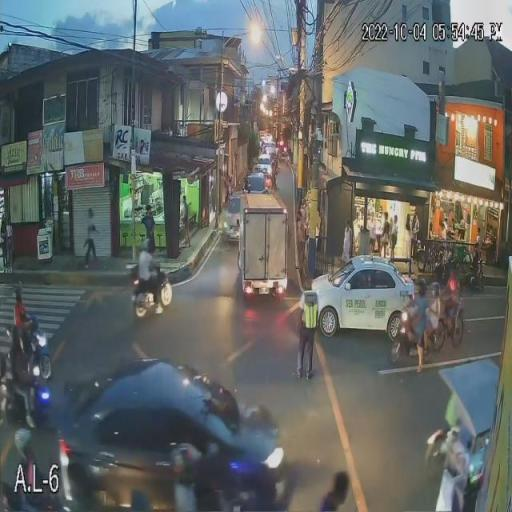helmet: (141, 240, 158, 254), (11, 288, 26, 303), (419, 278, 427, 294), (431, 283, 440, 296)
motorcycle: (182, 421, 288, 512), (0, 308, 54, 397), (387, 299, 439, 363), (126, 264, 172, 320), (426, 290, 464, 352)
rider: (403, 280, 432, 372), (134, 239, 164, 308), (12, 290, 40, 354), (428, 279, 446, 335), (444, 270, 462, 320)
